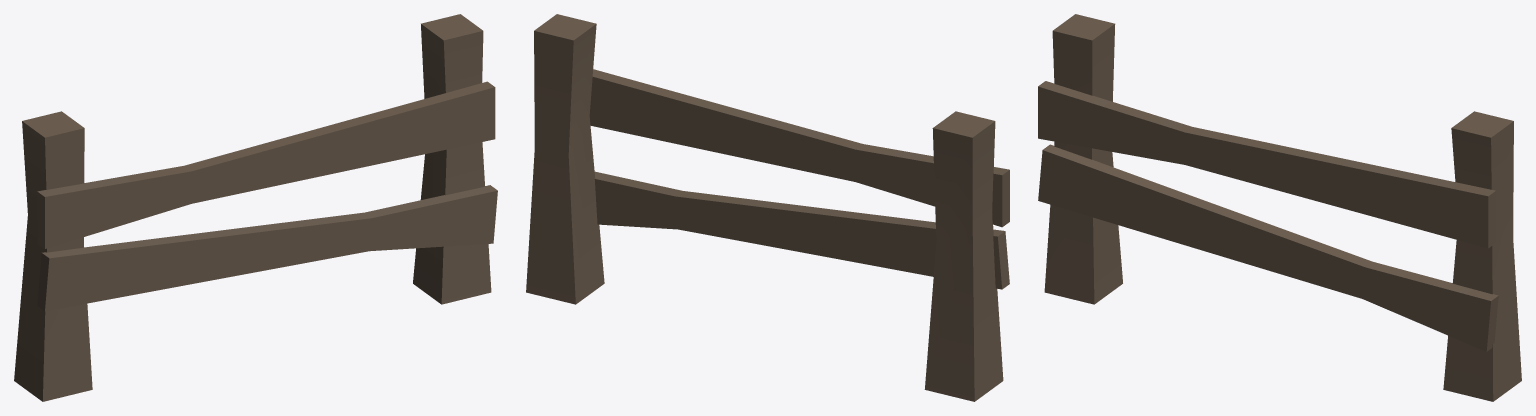
The model's file is Fence_ Mesh.fbx.
The picture shows the model from 3 angles, left to right: view 1: azimuth 30°, elevation 25°; view 2: azimuth 150°, elevation 25°; view 3: azimuth 330°, elevation 25°; orthographic projection.
Parts seen in each view (by area): view 1: FenceWhole_Mesh; view 2: FenceWhole_Mesh; view 3: FenceWhole_Mesh.
Part boxes in pixels (x1,y1,x2,y2): FenceWhole_Mesh: [14, 14, 497, 401]; FenceWhole_Mesh: [526, 14, 1009, 401]; FenceWhole_Mesh: [1038, 14, 1521, 401].
Size of the model in its own units: 182 by 100 by 22.99.
